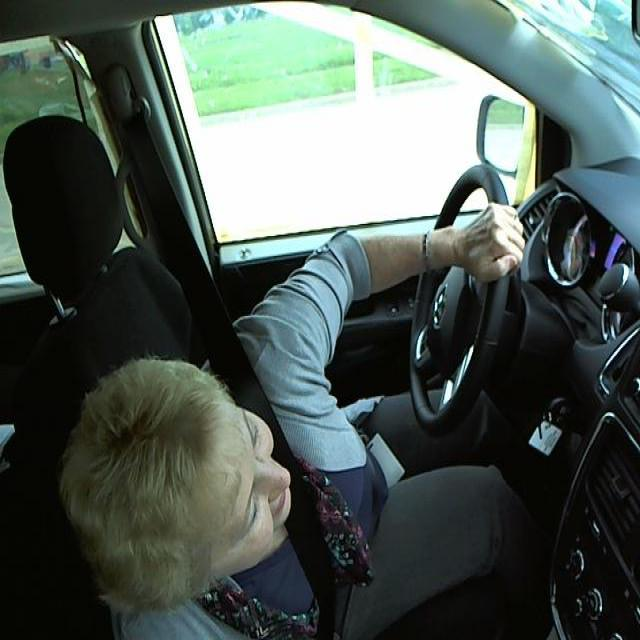seatbelt: (210, 356, 373, 639)
